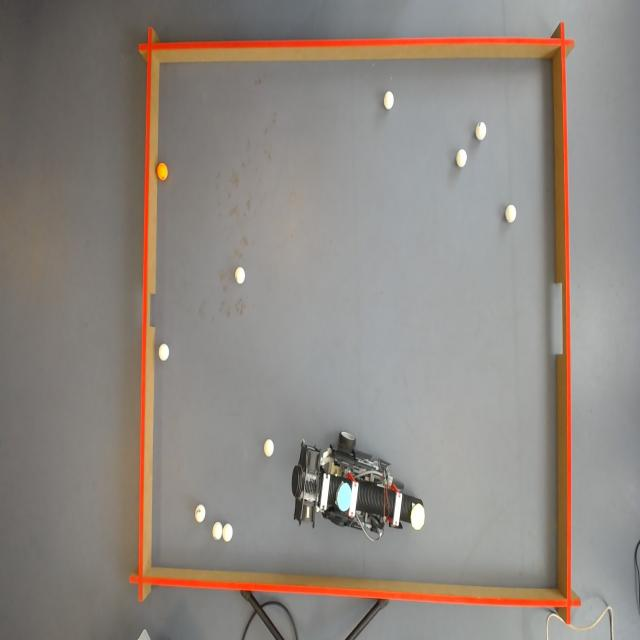orange: (156, 162, 170, 182)
robot: (288, 423, 426, 540)
robot-front: (409, 506, 424, 532)
robot-rear: (336, 475, 353, 518)
white: (212, 520, 225, 540), (384, 89, 396, 110), (476, 122, 488, 141), (506, 204, 518, 222), (223, 522, 235, 540), (264, 439, 275, 458), (158, 344, 171, 360), (235, 267, 248, 283), (194, 506, 206, 522), (456, 150, 466, 168)
